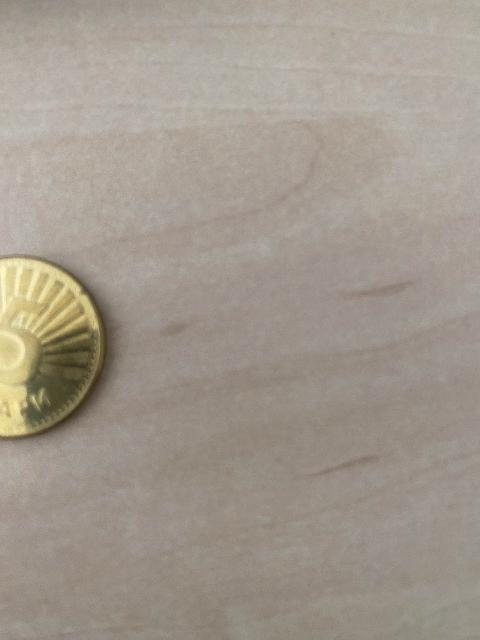coin: (0, 257, 105, 437)
